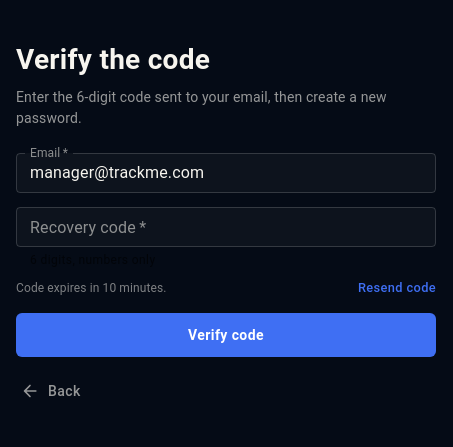
Test: ForgotPasswordVerifyPage › shows the server error message on failure
Step 1. Type "999999" into the field labelled "Recovery code *" → (226, 227), box [16,207,436,247]
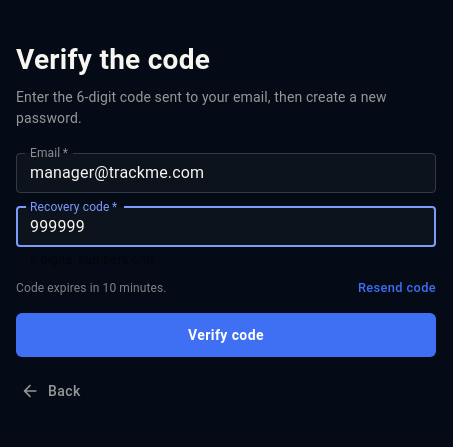
Step 2. Click the button "Verify code" → click(226, 335), box [16,313,436,357]
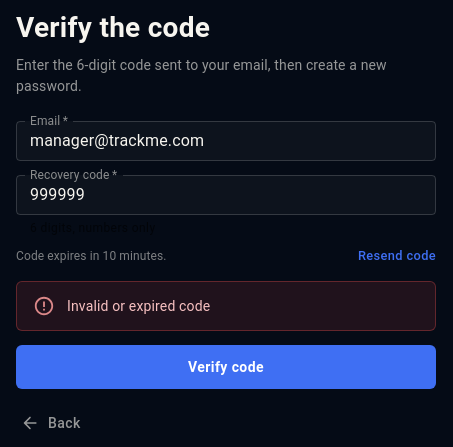
Now the text "Invalid or expired code" is shown, box [67,298,210,314]
